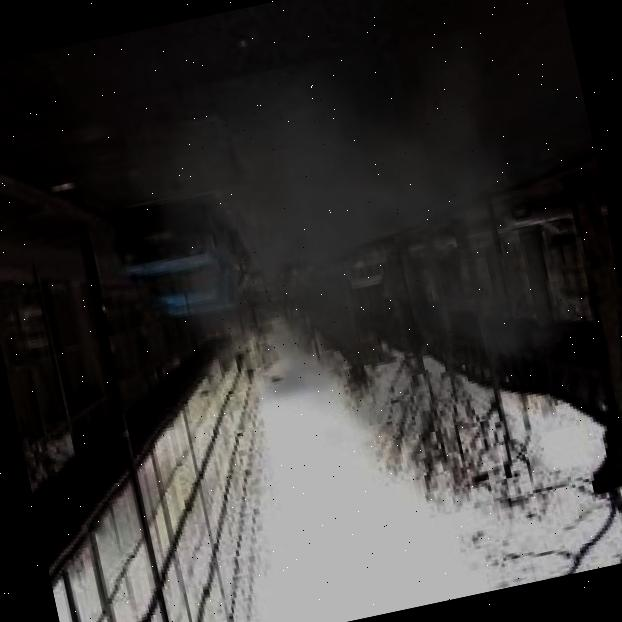smoke: (111, 16, 607, 514)
